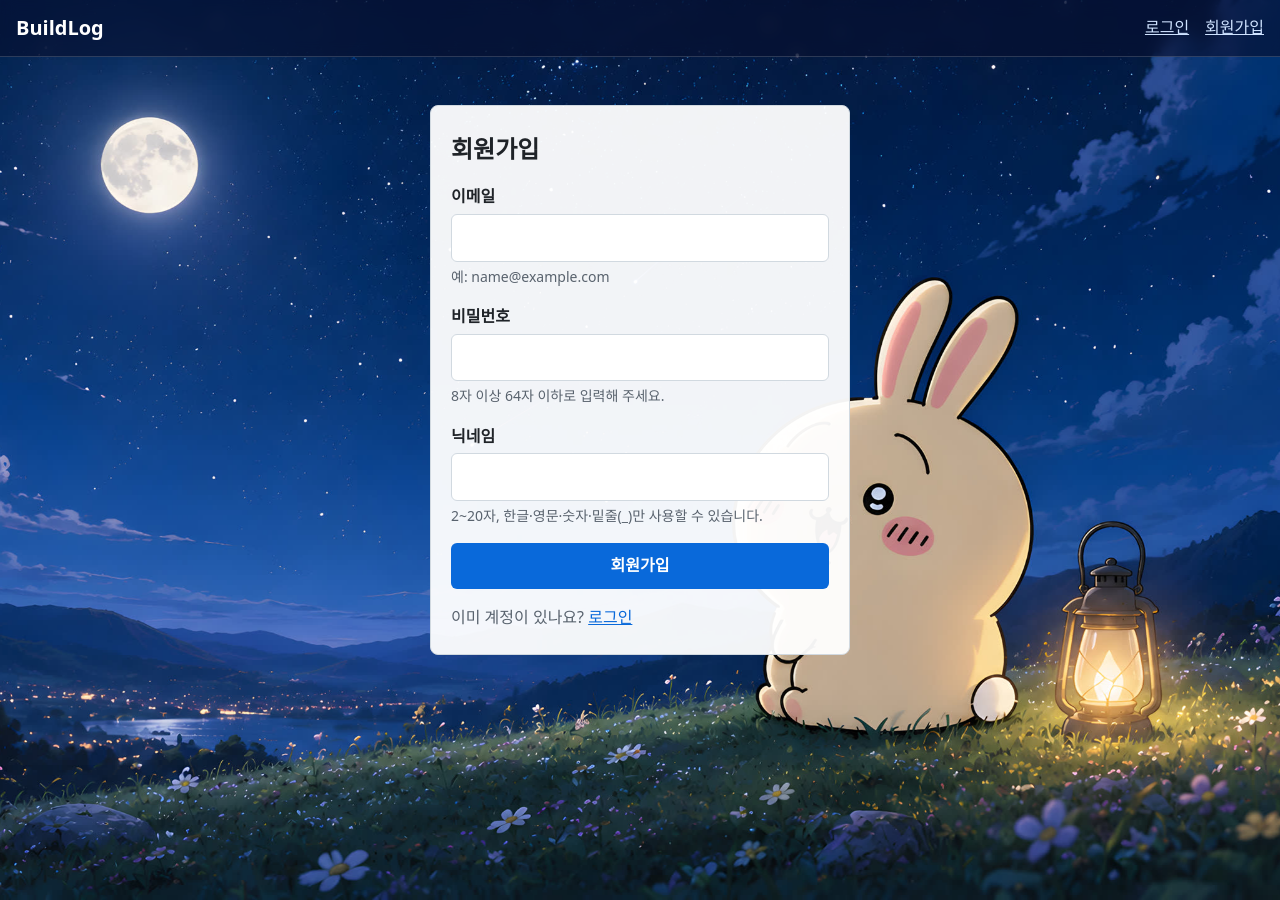
Test case: 회원가입 › 닉네임에 허용되지 않는 문자가 있으면 안내한다
This screenshot has width=1280, height=900.
Type "user@example.com" into the field labelled "이메일" at [640, 238], box [451, 214, 829, 262]
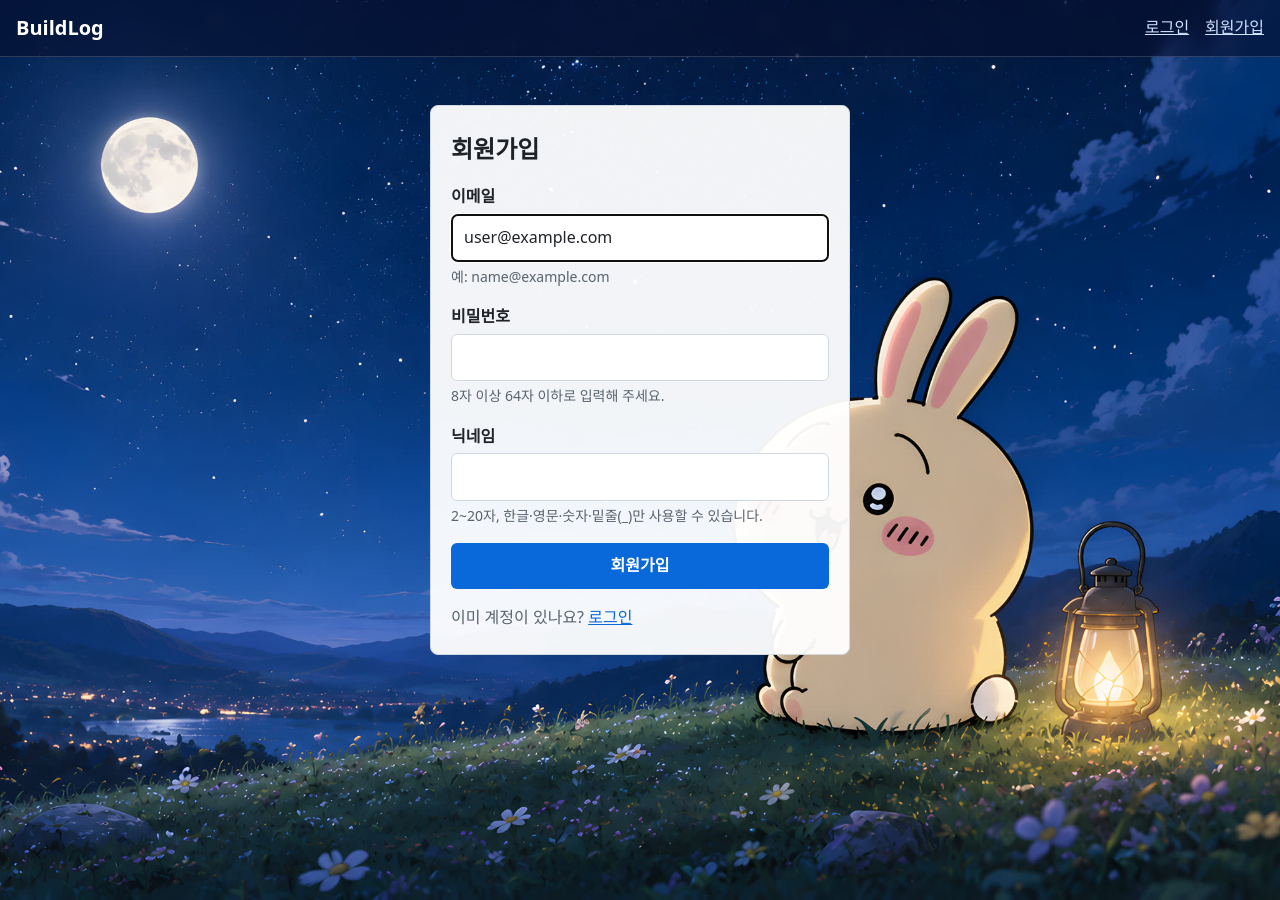
Type "password123" into the password field labelled "비밀번호" at [640, 357], box [451, 334, 829, 381]
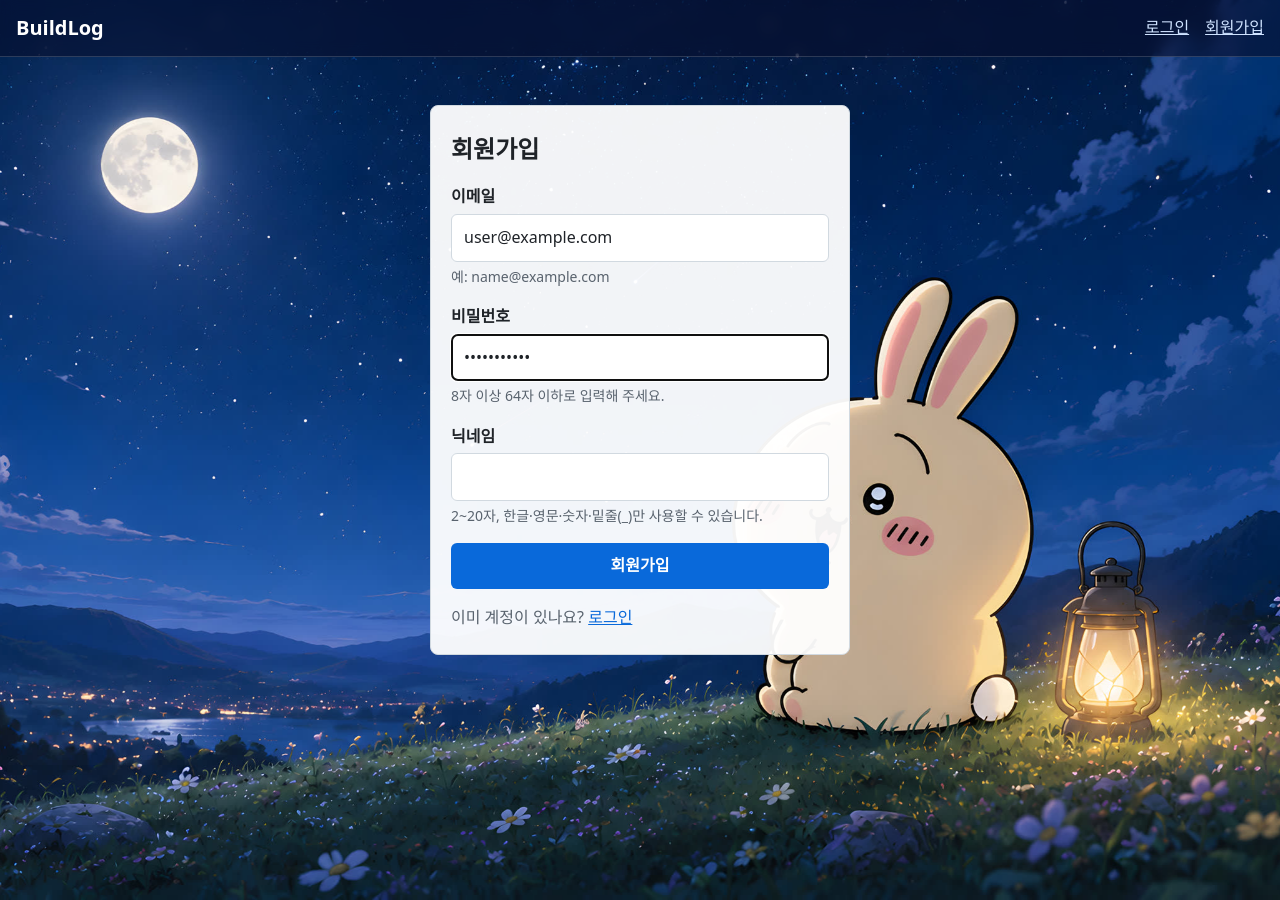
Type "안녕 하세요!" into the field labelled "닉네임" at [640, 477], box [451, 453, 829, 501]
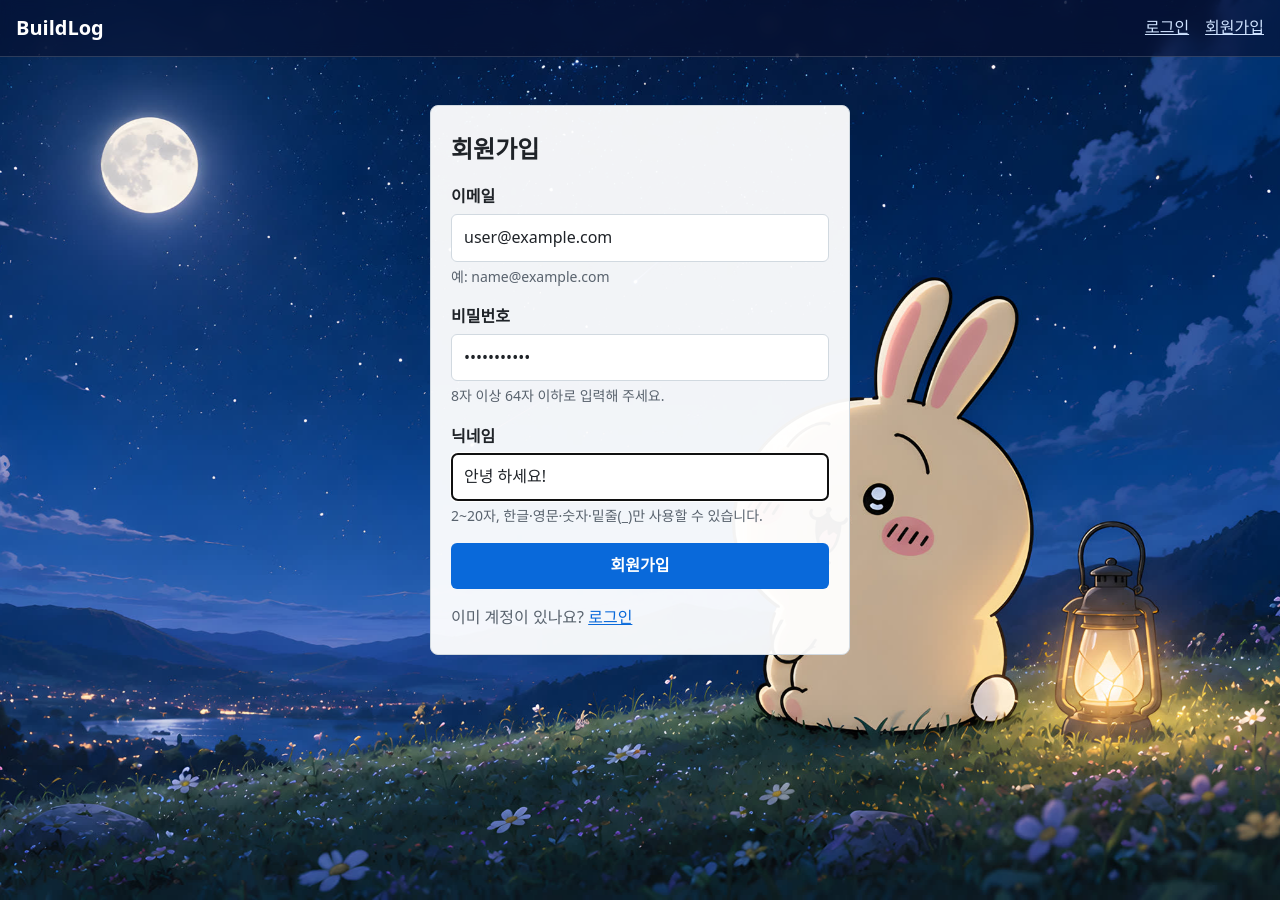
Click the button "회원가입" at [640, 566], box [451, 543, 829, 589]
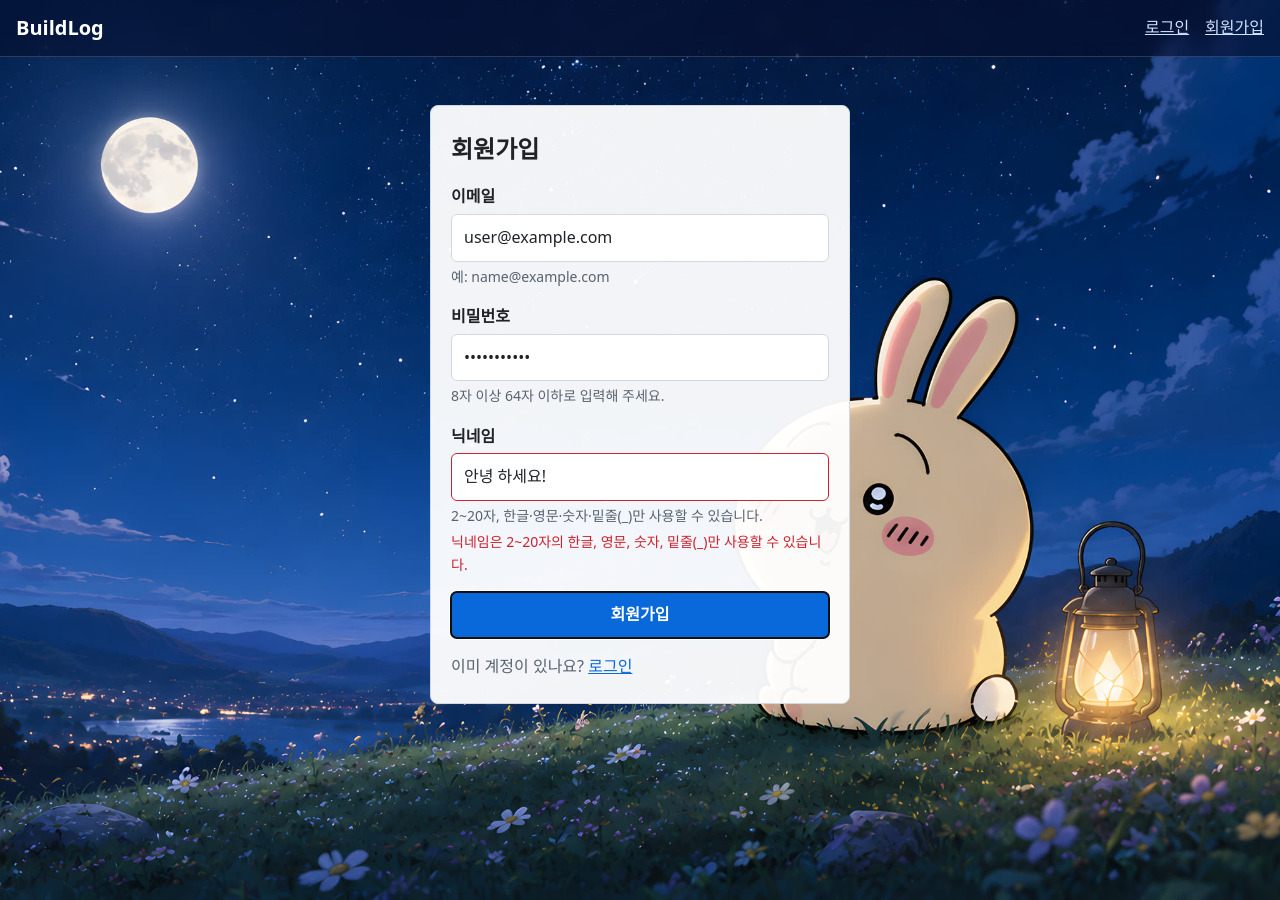
Result: the text "닉네임은 2~20자의 한글, 영문, 숫자, 밑줄(_)만 사용할 수 있습니다." is shown at [451, 531, 829, 576]
